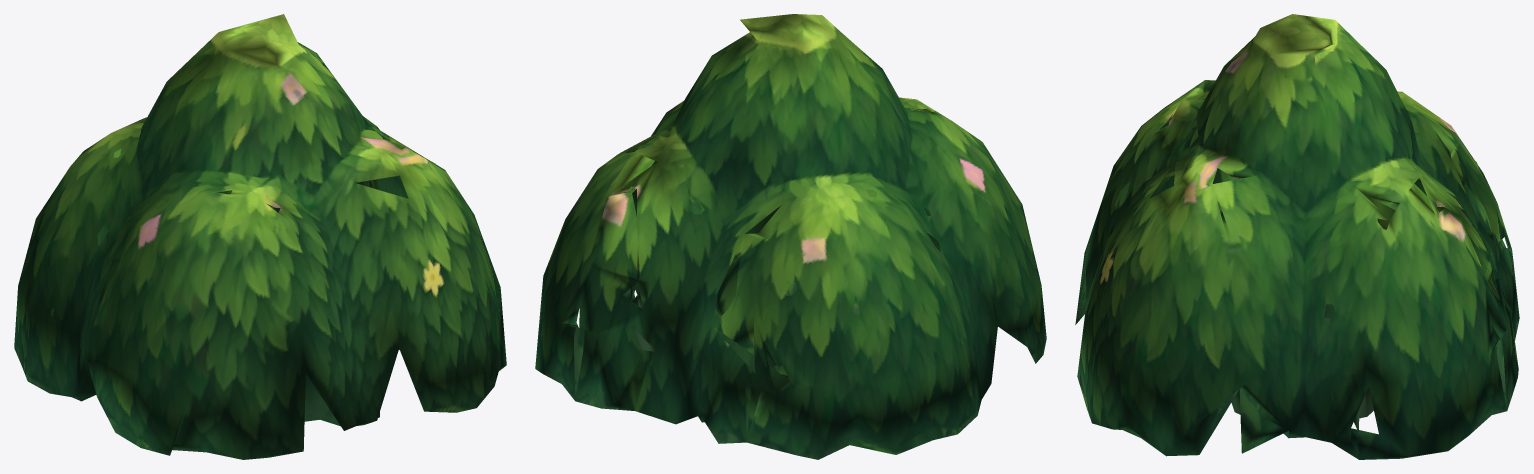
File: arbusto_1.glb
The picture shows the model from 3 angles, left to right: view 1: azimuth 30°, elevation 25°; view 2: azimuth 150°, elevation 25°; view 3: azimuth 270°, elevation 25°; orthographic projection. The views are drawn at different scales.
Parts seen in each view (by area): view 1: arbusto_1; view 2: arbusto_1; view 3: arbusto_1.
Part boxes in pixels (x1=…): arbusto_1: x1=14, y1=14, x2=506, y2=459; arbusto_1: x1=535, y1=14, x2=1046, y2=459; arbusto_1: x1=1075, y1=14, x2=1519, y2=459.
Size of the model in its own units: 1.9 by 1.55 by 1.8.
1 material, 1 textured.
